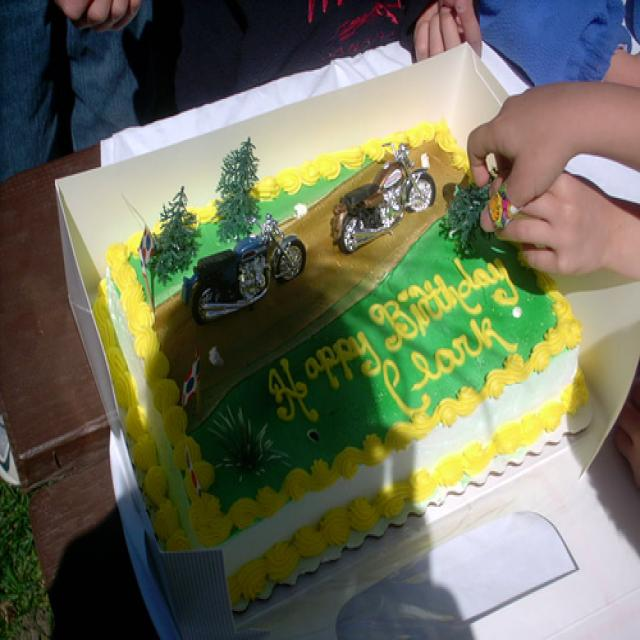motor: (326, 137, 441, 257), (181, 215, 305, 323)
